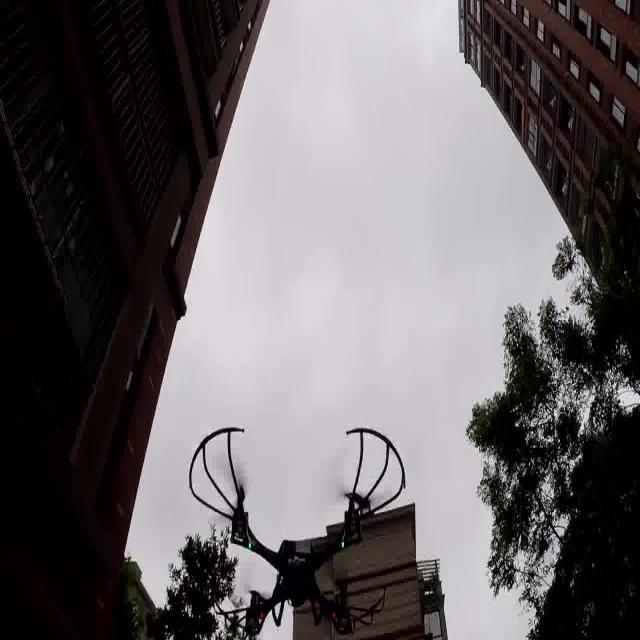drones: (183, 417, 413, 640)
